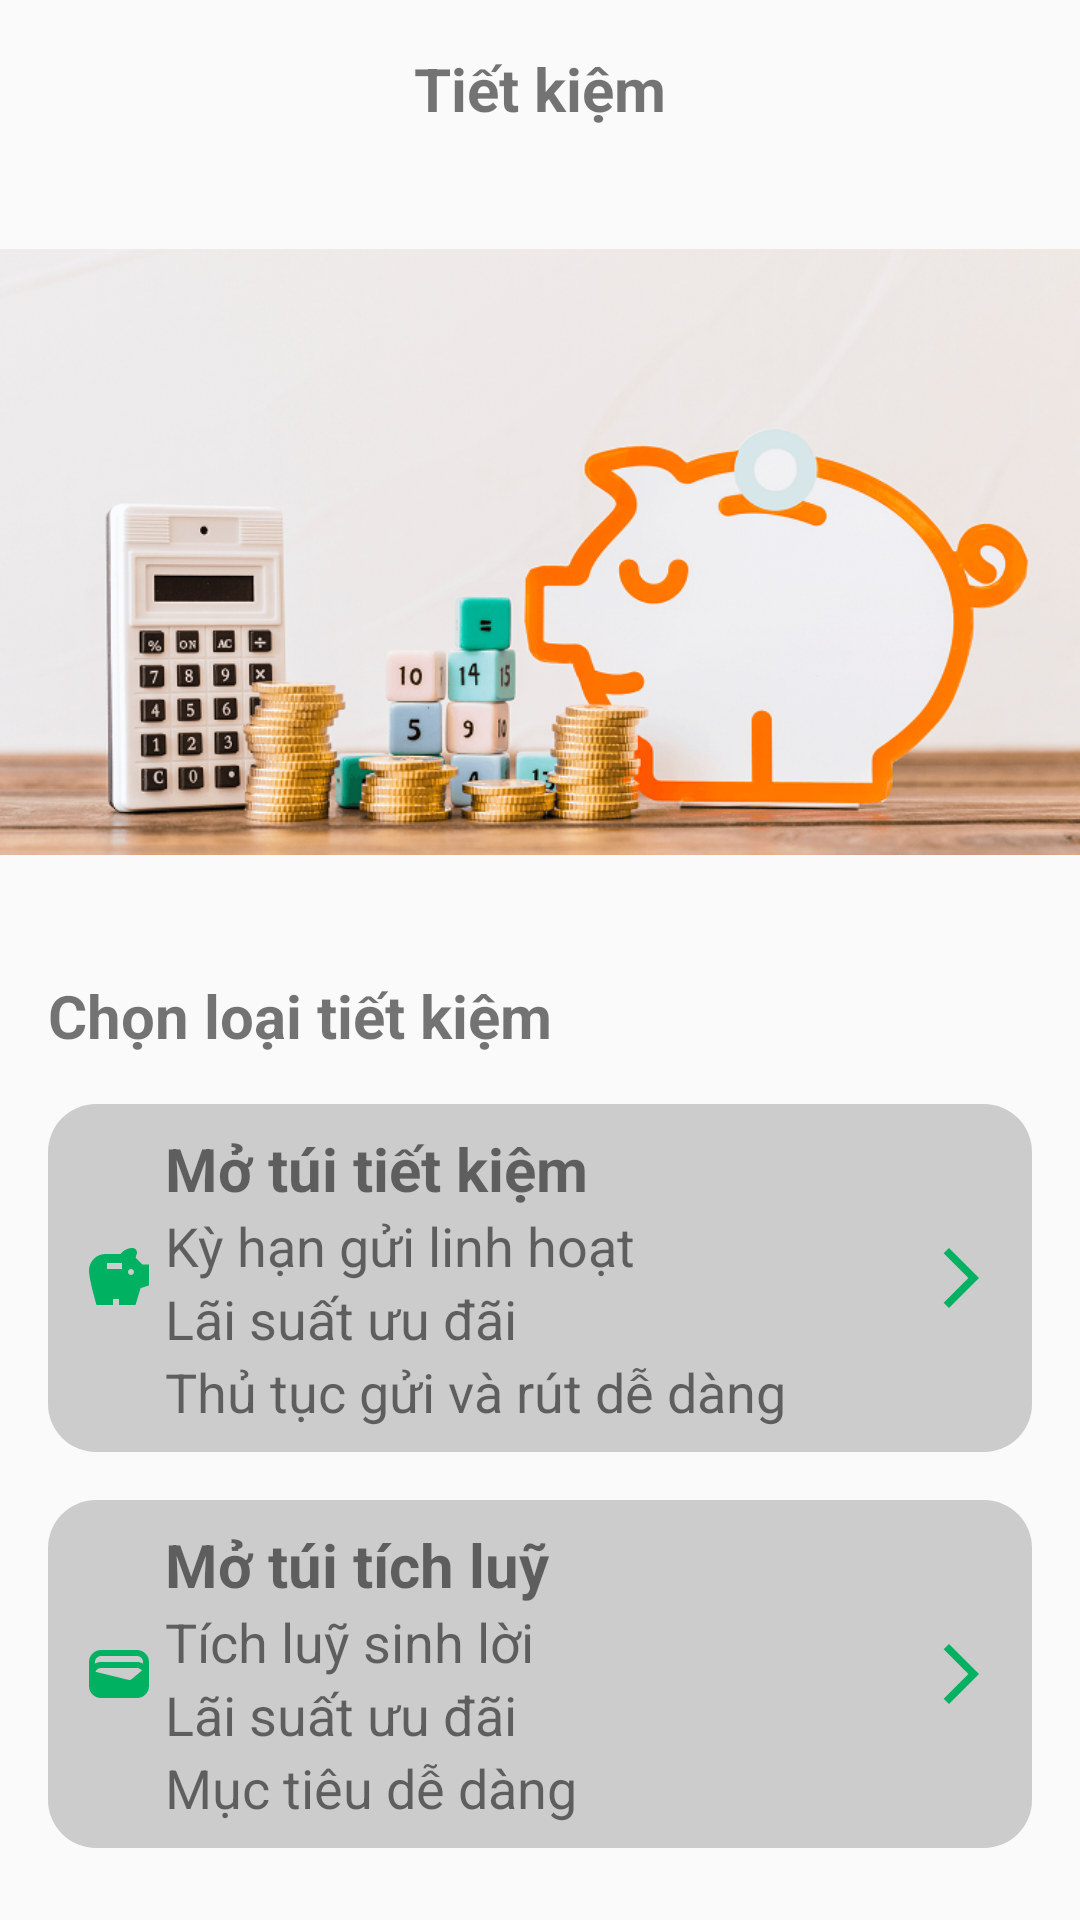

Icons on this 1080px x 1920px Android screen, each with the point to tap as (x=x, y=y):
arrow forward: (x=961, y=1278), (x=961, y=1674)
savings: (x=119, y=1276)
wallet: (x=119, y=1674)
